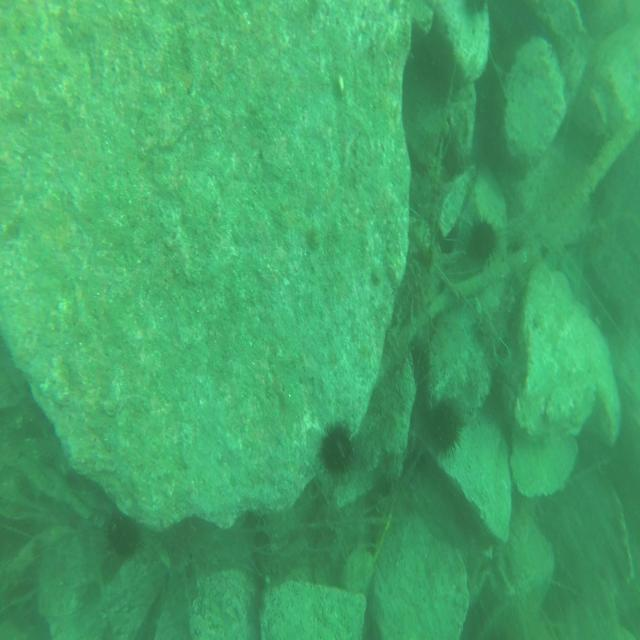echinus: (318, 415, 361, 484), (462, 212, 502, 280), (102, 504, 145, 564), (427, 399, 462, 464), (461, 0, 486, 22)
